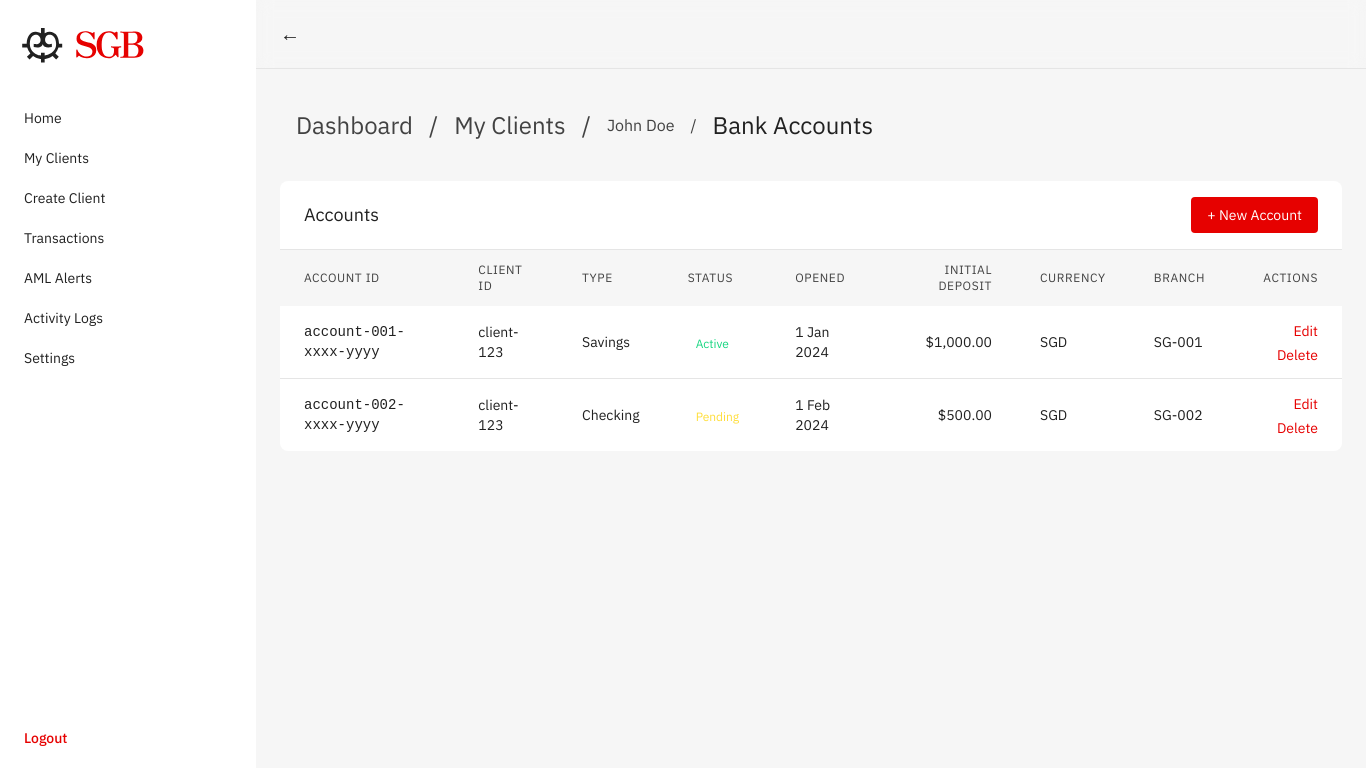
ClientAccountsPage › should open create account modal when button is clicked
The width and height of the screenshot is (1366, 768).
Click the button "+ New Account": x=1255, y=215 [1191,197,1318,233]
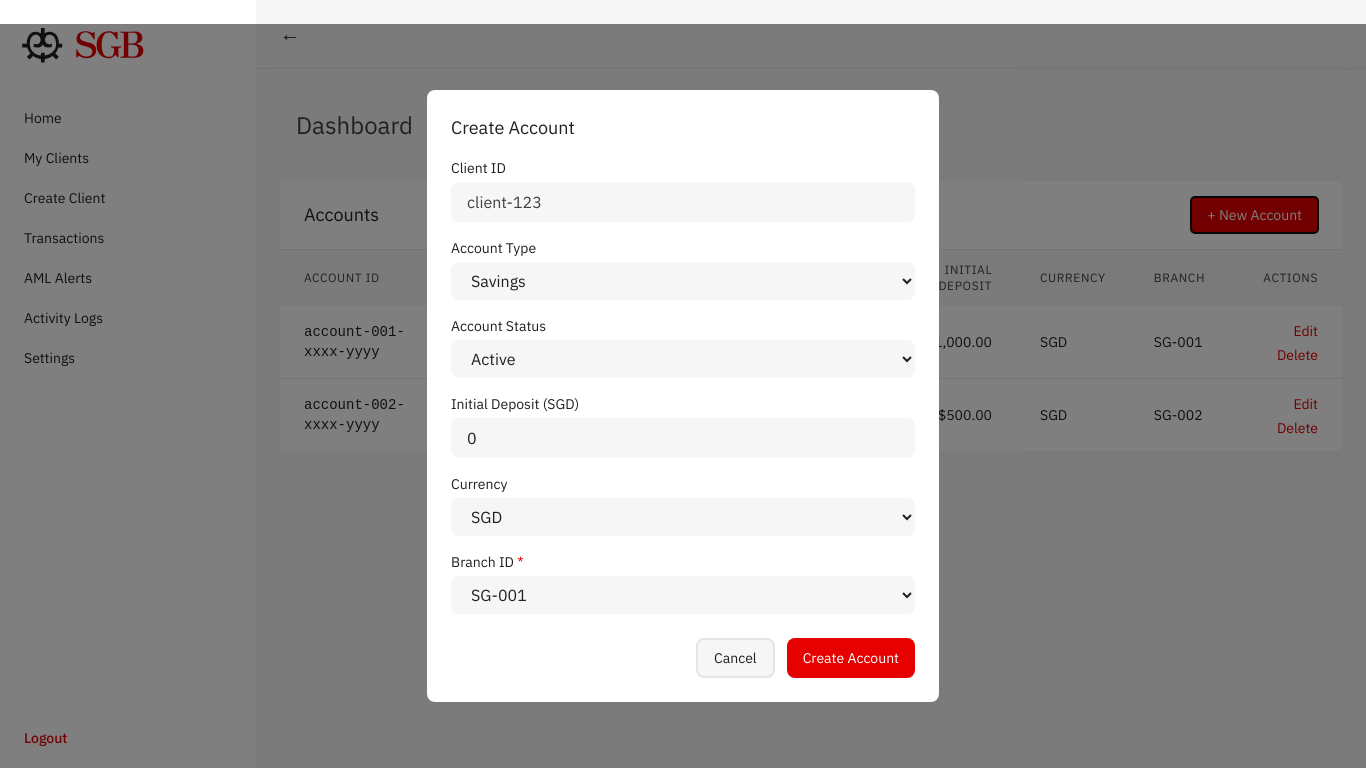
Result: the element with test id "account-modal" is shown
Result: the heading "Create Account" is shown at [451,116,575,139]
